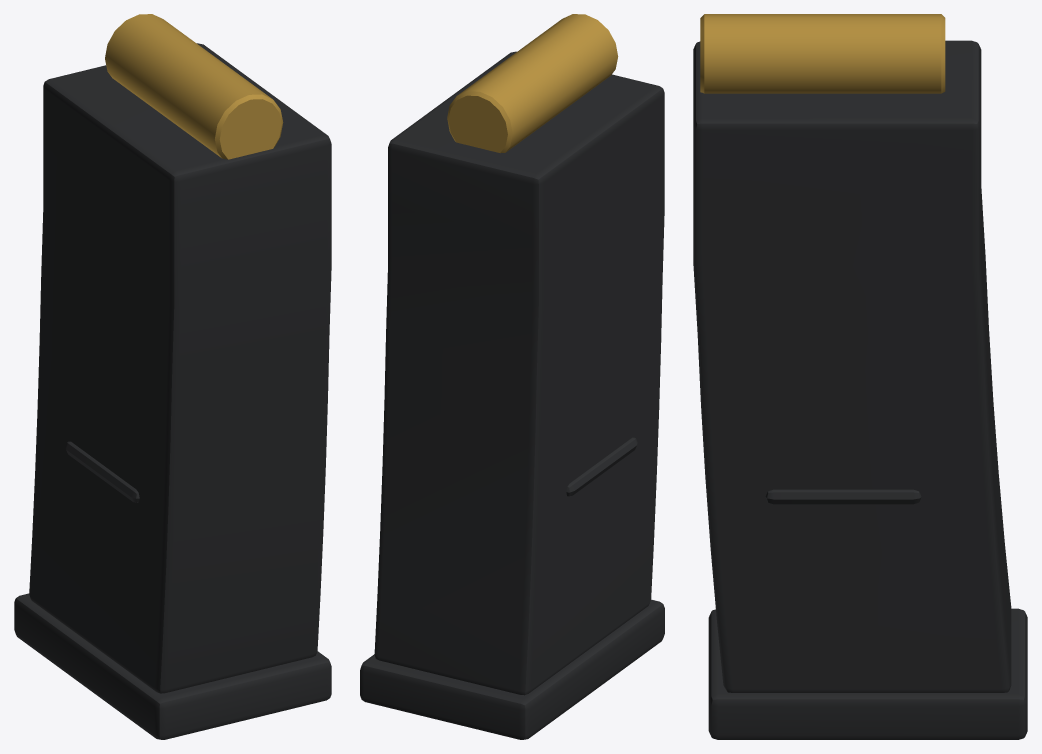
Rendered from mod_osprey_standard_mag.glb.
3 renders of one model, left to right at view 1: azimuth 30°, elevation 25°; view 2: azimuth 150°, elevation 25°; view 3: azimuth 270°, elevation 25°, orthographic. The views are drawn at different scales.
Parts seen in each view (by area): view 1: Magazine, MagazineRound; view 2: Magazine, MagazineRound; view 3: Magazine, MagazineRound.
Part boxes in pixels (x1,y1,x2,y2): Magazine: (14,43,331,739); MagazineRound: (105,14,283,159); Magazine: (360,51,664,739); MagazineRound: (447,14,618,153); Magazine: (693,40,1027,739); MagazineRound: (700,14,945,93).
Size of the model in its own units: 0.0284 by 0.0968 by 0.0432.
